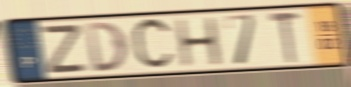7: (223, 13, 257, 67)
C: (129, 14, 177, 74)
D: (82, 20, 131, 75)
H: (173, 15, 225, 70)
T: (265, 10, 303, 65)
Z: (41, 22, 89, 76)
